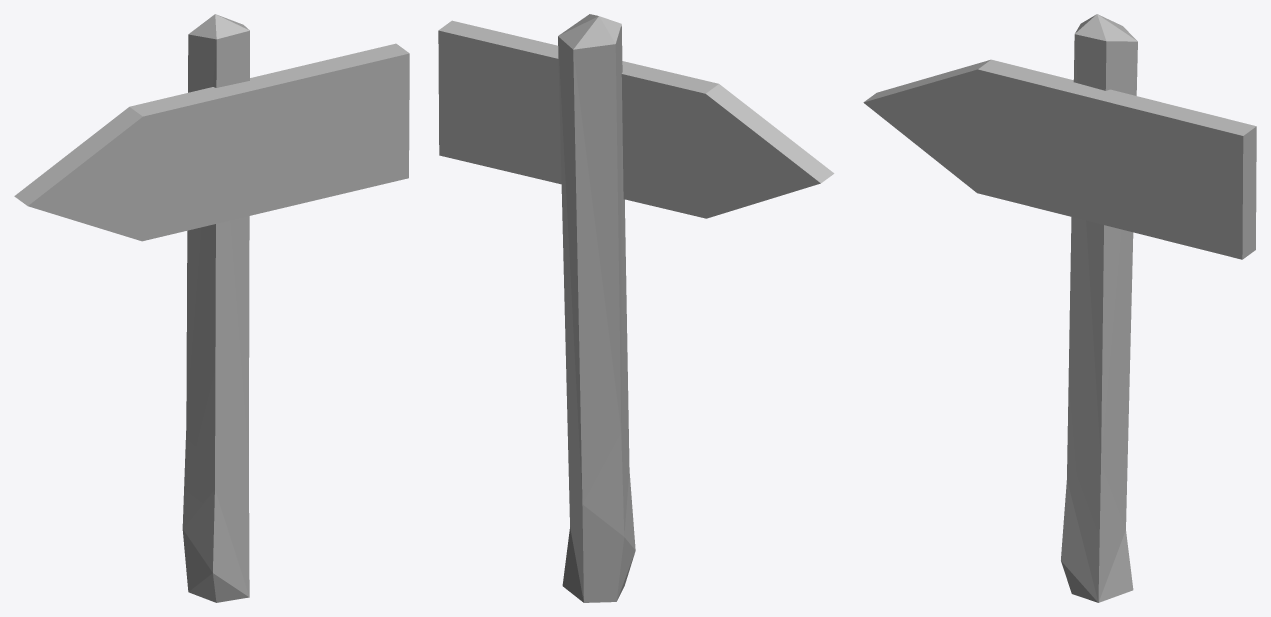
File: Pointer_04.fbx
3 renders of one model, left to right at view 1: azimuth 30°, elevation 25°; view 2: azimuth 150°, elevation 25°; view 3: azimuth 330°, elevation 25°, orthographic.
Parts seen in each view (by area): view 1: Pointer_04; view 2: Pointer_04; view 3: Pointer_04.
Part boxes in pixels (left/top/right/bottom): Pointer_04: left=14, top=14, right=409, bottom=602; Pointer_04: left=438, top=14, right=834, bottom=602; Pointer_04: left=863, top=14, right=1256, bottom=602.
Bounding box in the file's own units: 1.07 × 1.54 × 0.1995.
